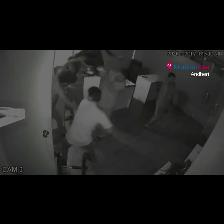person: (62, 87, 113, 164), (145, 73, 175, 128), (52, 66, 76, 130), (68, 50, 104, 76)
